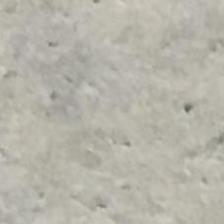Non_Crack: (20, 9, 207, 224)
